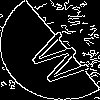W: (25, 25, 99, 90)
